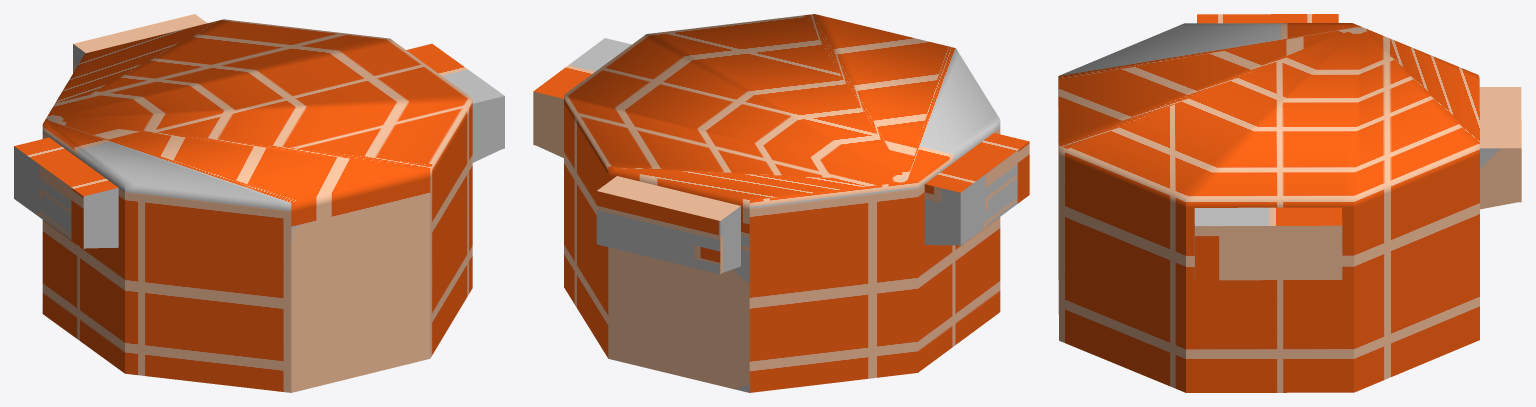
The model's file is 3_balkonlu_kat_camsız.fbx.
3 renders of one model, left to right at view 1: azimuth 30°, elevation 25°; view 2: azimuth 150°, elevation 25°; view 3: azimuth 270°, elevation 25°, orthographic. The views are drawn at different scales.
Visible parts, largest first — view 1: Cube.003; view 2: Cube.003; view 3: Cube.003.
Part boxes in pixels (x1,y1,x2,y2): Cube.003: (14,14,504,392); Cube.003: (533,14,1029,392); Cube.003: (1058,14,1521,392).
Size of the model in its own units: 236 by 102 by 219.
